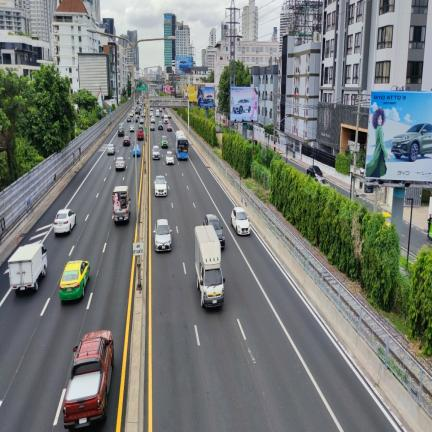bus: (175, 130, 188, 159)
car: (391, 123, 432, 161), (203, 214, 224, 247), (54, 209, 76, 234), (154, 220, 171, 251), (231, 207, 250, 234), (232, 98, 251, 113), (155, 176, 167, 196), (115, 157, 125, 170), (165, 152, 174, 164), (152, 146, 160, 158), (203, 95, 214, 103), (107, 143, 115, 154), (161, 136, 168, 148), (137, 126, 143, 140), (123, 136, 130, 146), (118, 126, 124, 136), (158, 122, 163, 130), (150, 123, 155, 130), (167, 124, 172, 131), (140, 116, 144, 124), (135, 115, 139, 122), (130, 124, 134, 131), (127, 116, 131, 122), (131, 110, 135, 116), (151, 117, 155, 123), (129, 111, 133, 117), (150, 108, 153, 115), (156, 112, 160, 116), (168, 113, 171, 118), (159, 107, 162, 112), (143, 109, 145, 114), (163, 106, 166, 109)
human: (365, 108, 389, 177), (427, 214, 432, 239), (113, 193, 120, 209)
pickup: (63, 330, 113, 428)
taxi: (59, 261, 89, 300), (133, 143, 140, 156)
truck: (195, 226, 224, 307), (8, 242, 47, 293), (113, 186, 130, 223)
van: (164, 115, 167, 123)
